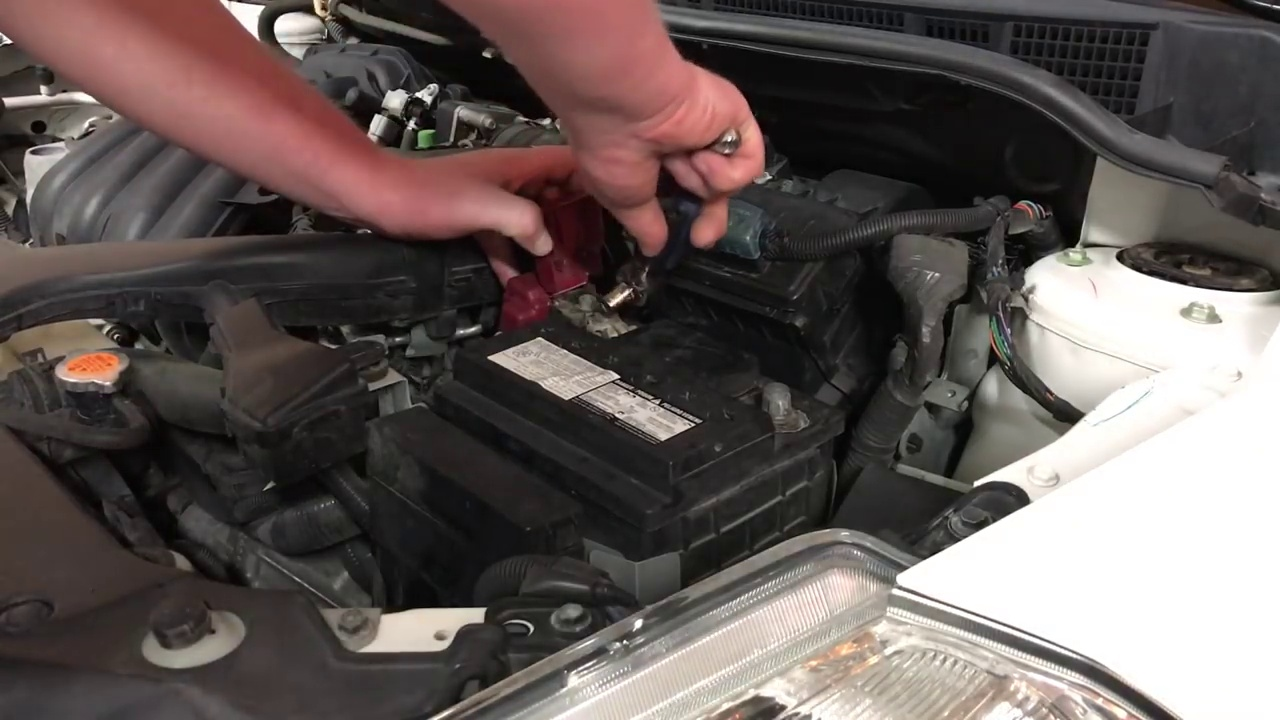battery: (453, 288, 834, 477)
neg_disconnected: (729, 374, 827, 438)
pos_touched: (481, 141, 668, 348)
